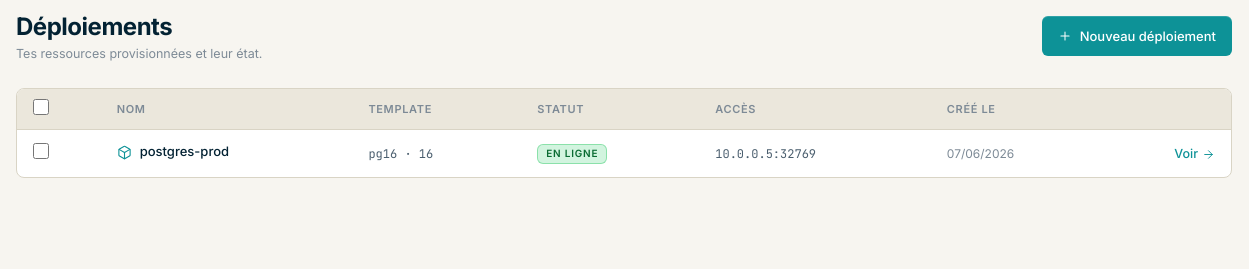
it: DeploymentsPage (liste) › révèle la barre d’actions groupées après sélection d’une ligne
The width and height of the screenshot is (1249, 269).
Click the checkbox named "Sélectionner postgres-prod": point(41, 151) [33, 143, 49, 159]
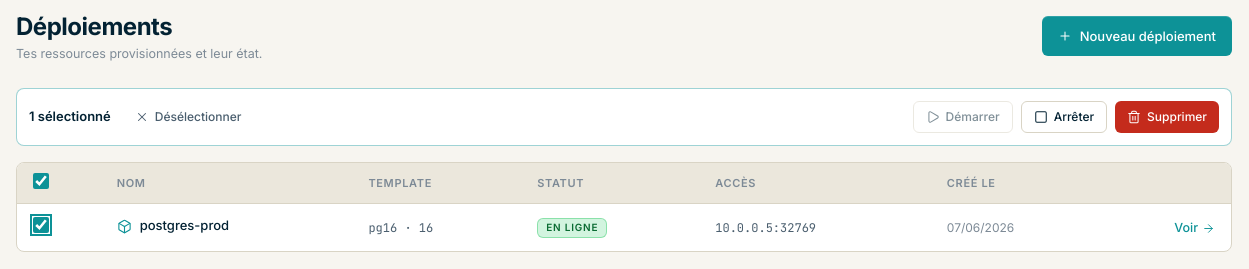
Now the element named "Actions groupées" is shown, box [16, 88, 1232, 146]
Now the text "1 sélectionné" is shown, box [29, 107, 111, 126]
